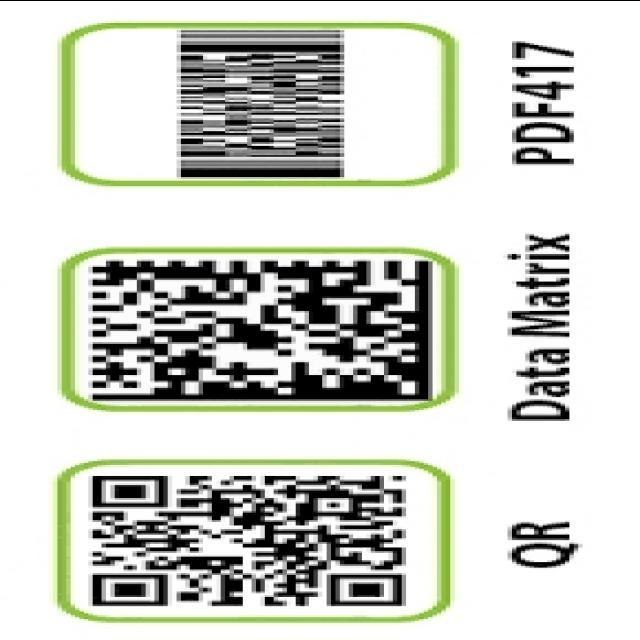Data-Matrix: (75, 255, 441, 403)
